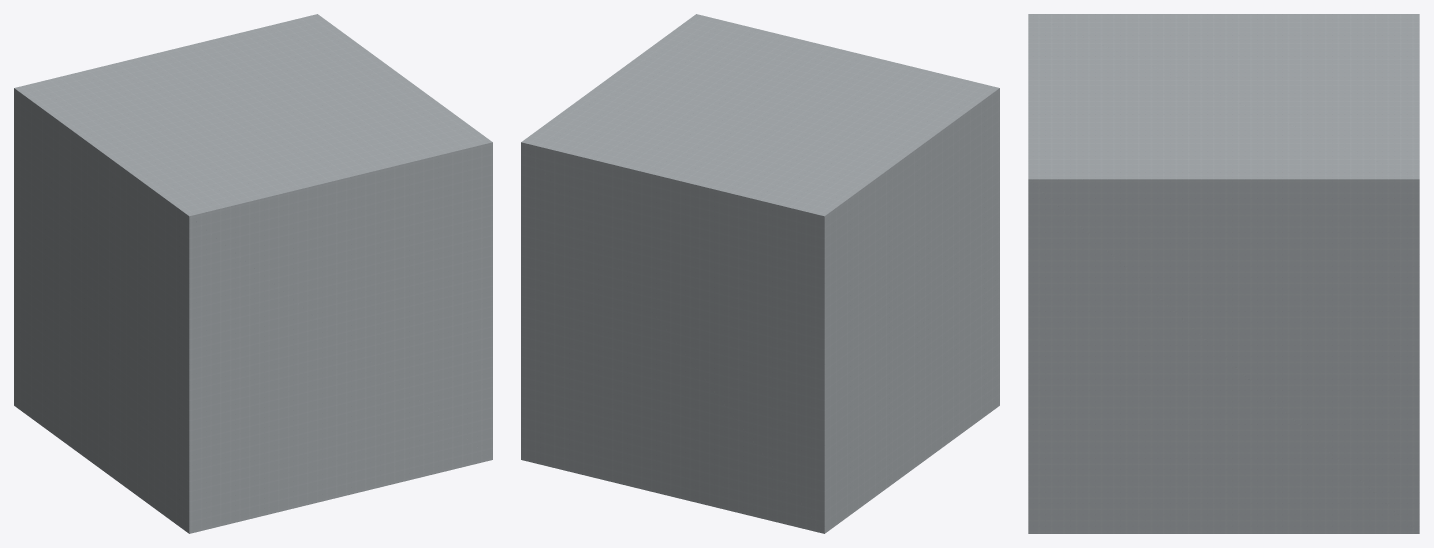
The model's file is level3.fbx.
The picture shows the model from 3 angles, left to right: view 1: azimuth 30°, elevation 25°; view 2: azimuth 150°, elevation 25°; view 3: azimuth 270°, elevation 25°; orthographic projection. The views are drawn at different scales.
Visible parts, largest first — view 1: Cube; view 2: Cube; view 3: Cube.
Part boxes in pixels (left/top/right/bottom): Cube: left=14, top=14, right=492, bottom=533; Cube: left=521, top=14, right=999, bottom=533; Cube: left=1028, top=14, right=1419, bottom=533.
Size of the model in its own units: 15904 by 15904 by 15904.
